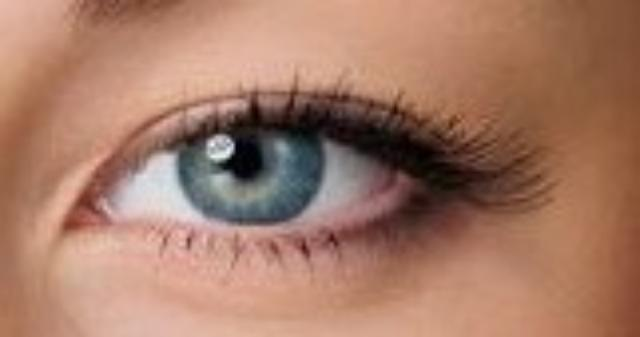eye: (178, 105, 328, 225)
